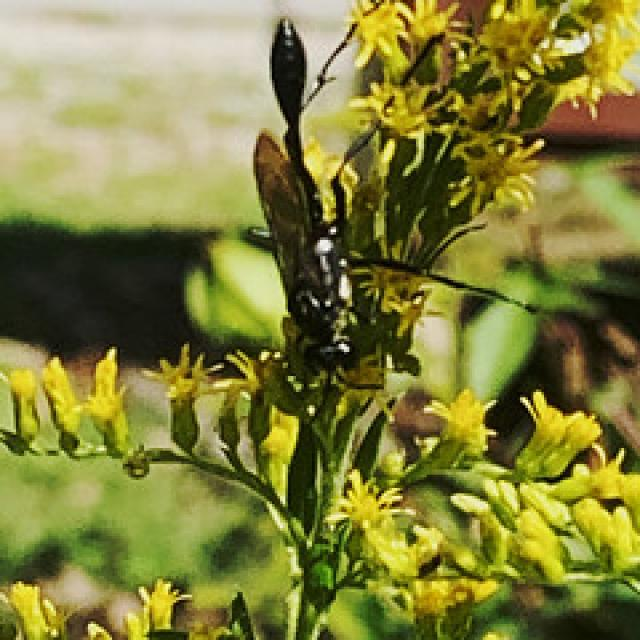Guepe: (227, 16, 396, 364)
